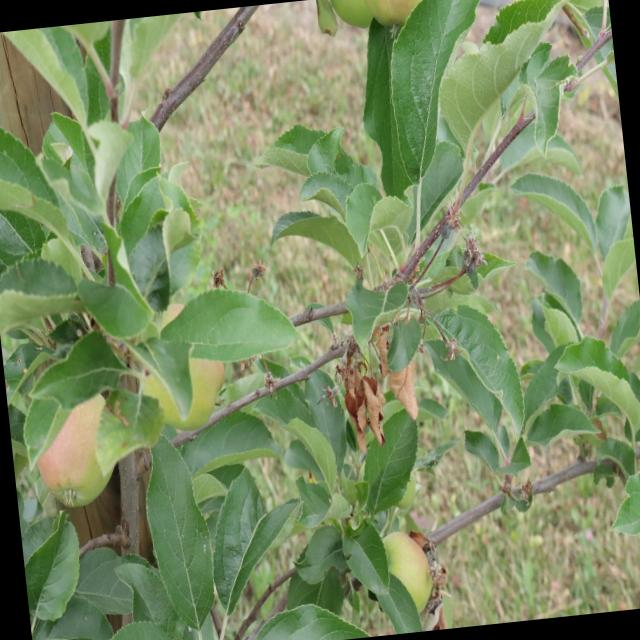-FireBlight-: (330, 351, 388, 457), (370, 323, 423, 420)
